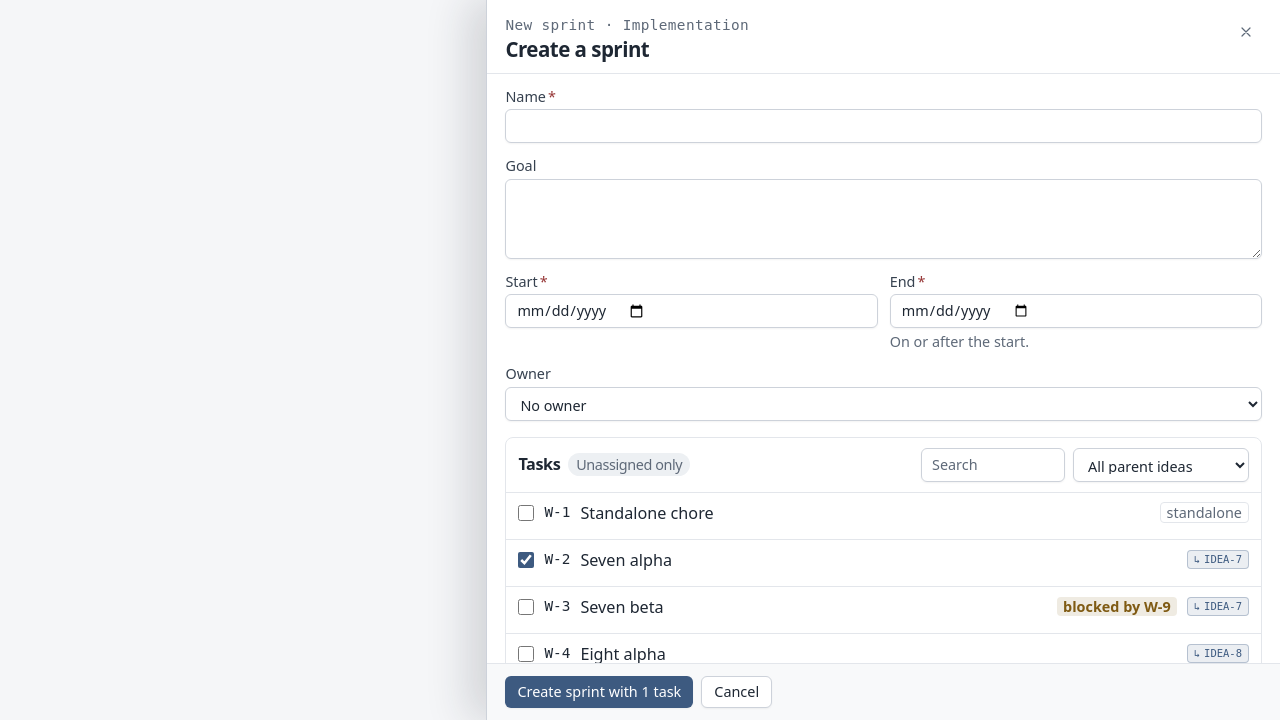
Test: SprintCreateDrawer request › sends nothing when the sprint’s own checks fail
Click the button "Create sprint with 1 task". click: (599, 692)
box: [505,676,693,708]
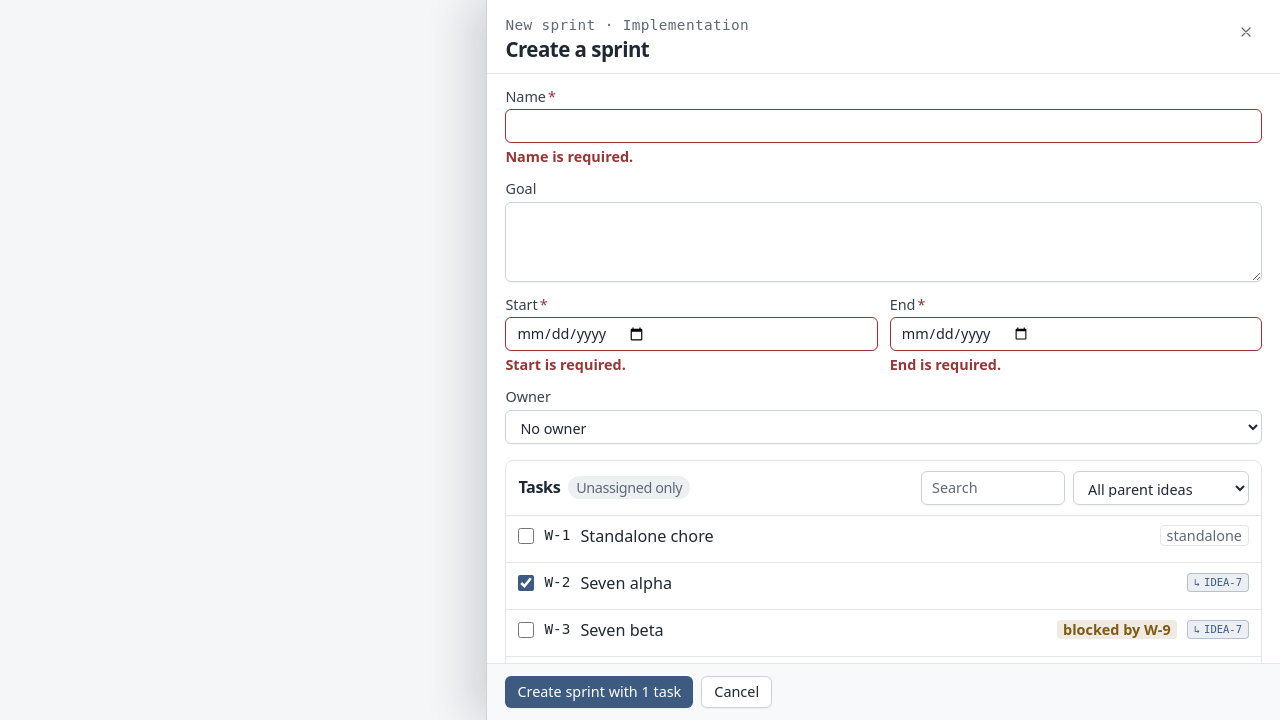
Check: the text "Name is required." is shown, box [505,147,633,166]
